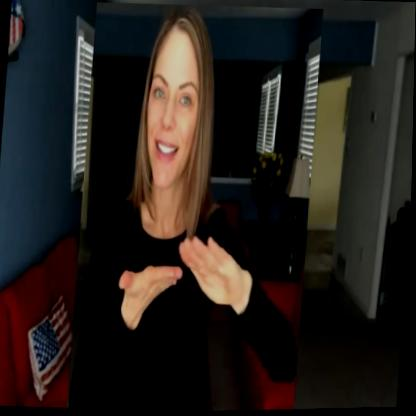NiceToMeetYou: (68, 0, 323, 415)
